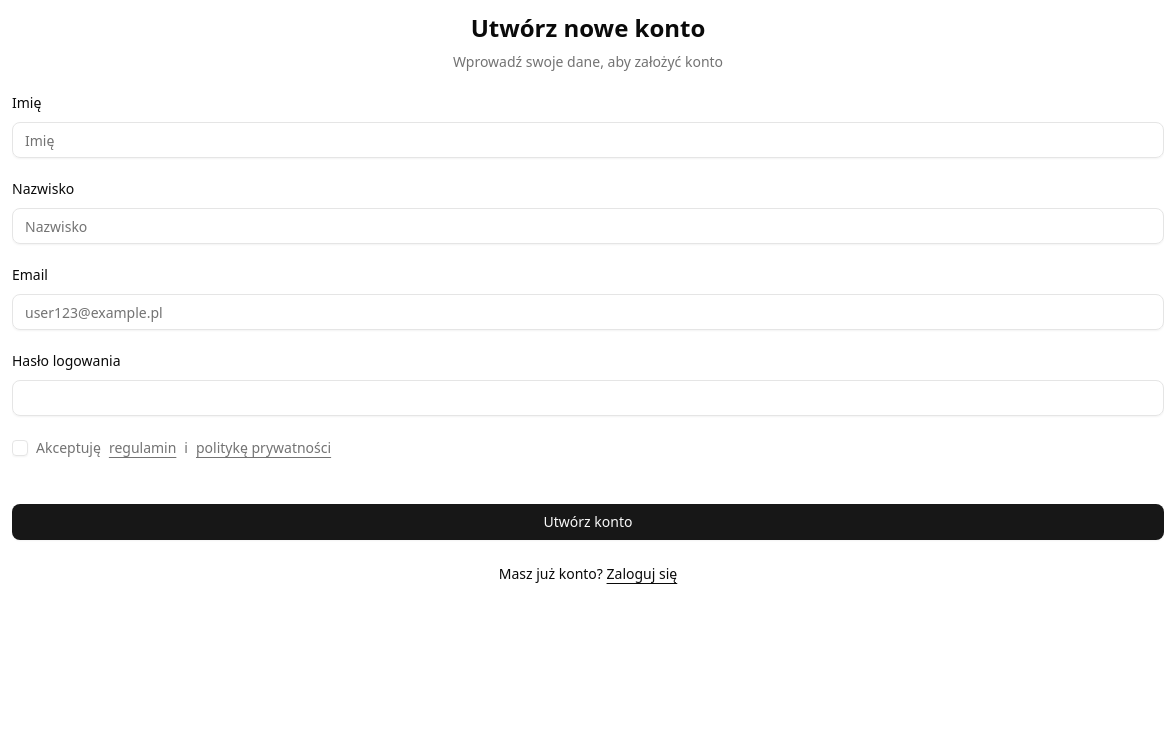
Test case: RegisterForm › wyświetla błąd walidacji dla zbyt krótkiego imienia
Type "Ab" into the field with placeholder "Imię" at (588, 140), box left=12, top=122, right=1164, bottom=158
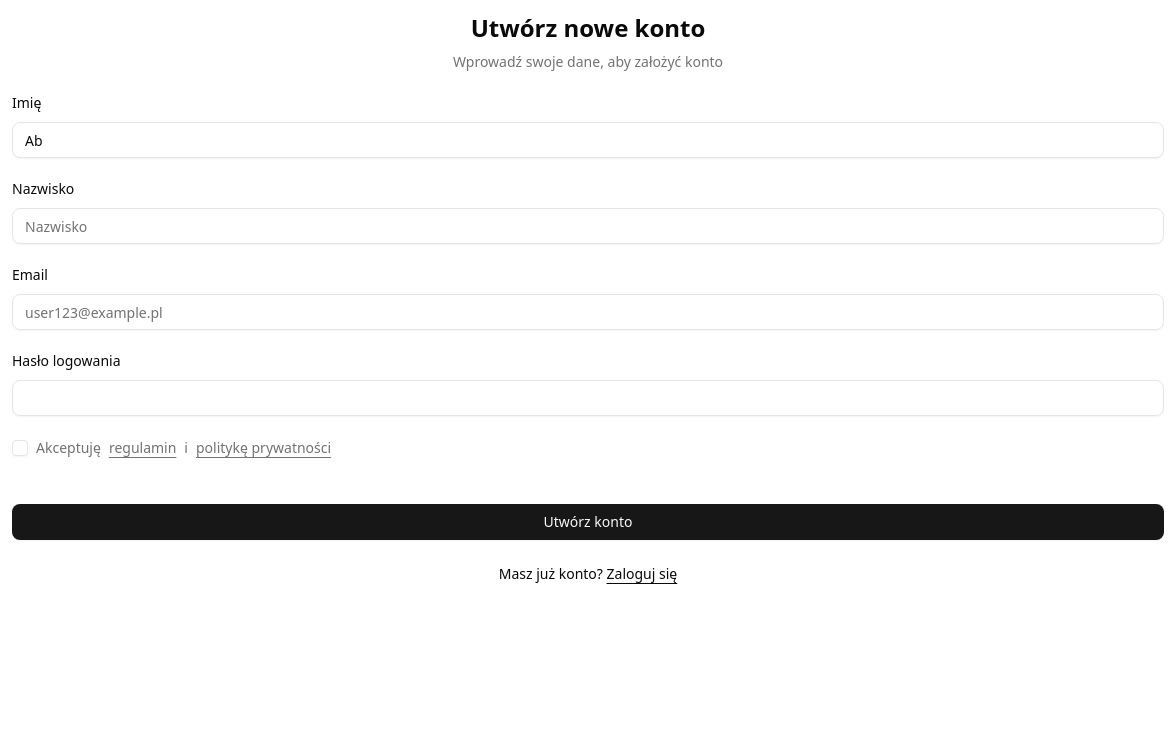
Type "Kowalski" into the field with placeholder "Nazwisko" at (588, 226), box left=12, top=208, right=1164, bottom=244
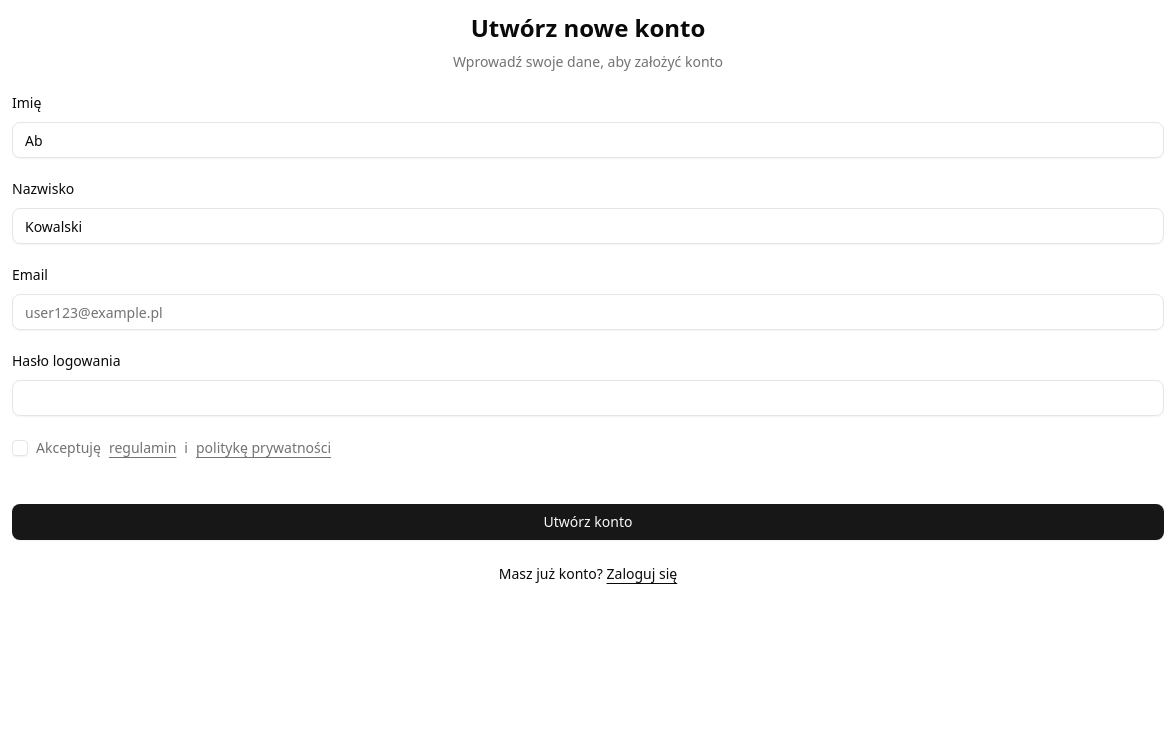
Type "test@example.com" into the field with placeholder "user123@example.pl" at (588, 312), box left=12, top=294, right=1164, bottom=330
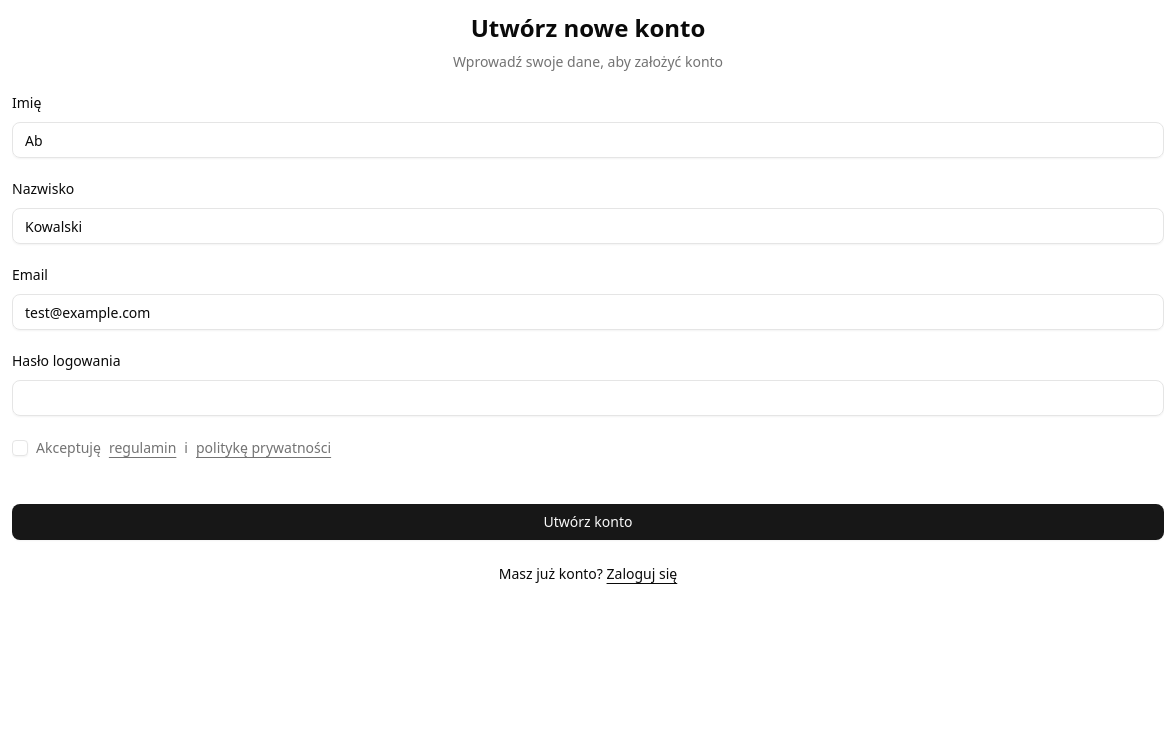
Type "Haslo1234!" into the password field labelled "Hasło logowania" at (588, 398), box left=12, top=380, right=1164, bottom=416
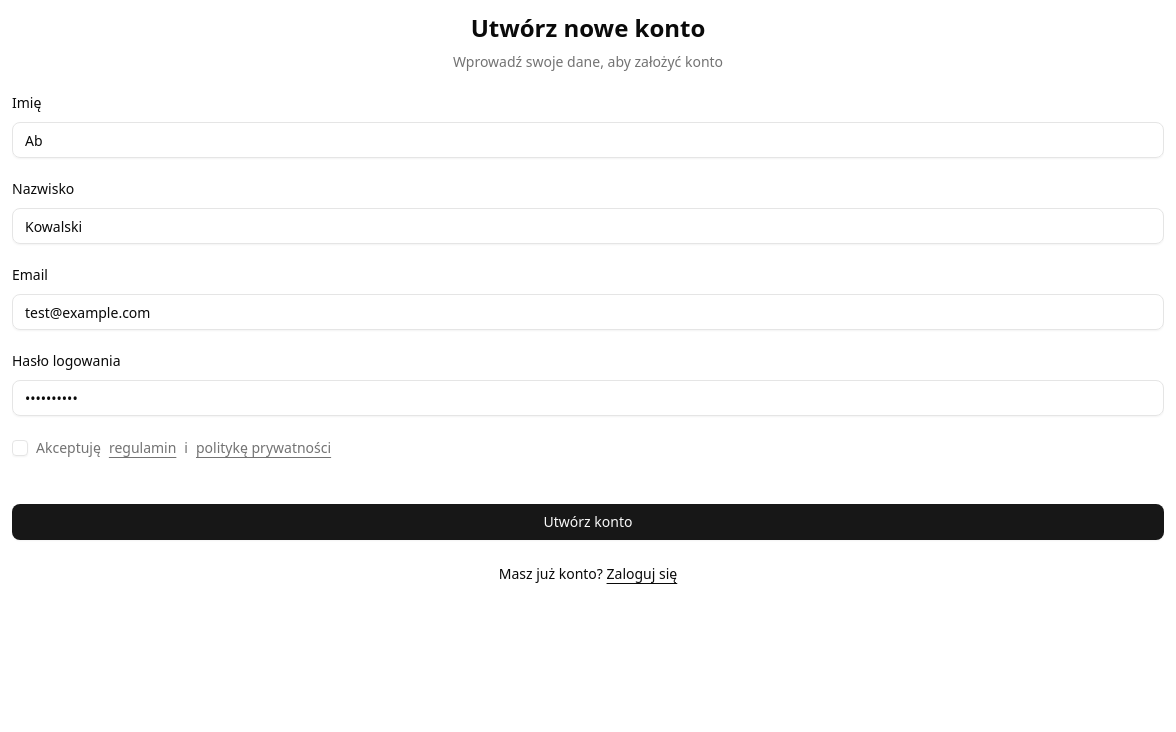
Click the button "Utwórz konto" at (588, 522), box left=12, top=504, right=1164, bottom=540
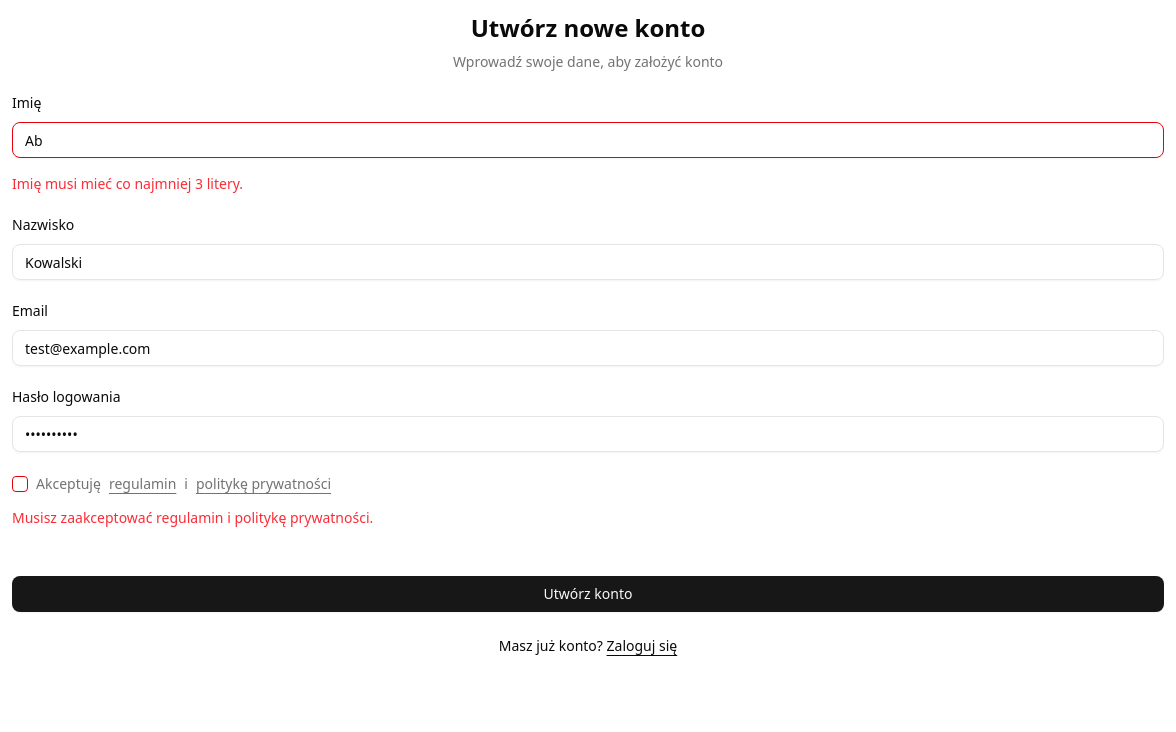
expect the text "Imię musi mieć co najmniej 3 litery." is shown: met, box left=12, top=174, right=243, bottom=193
